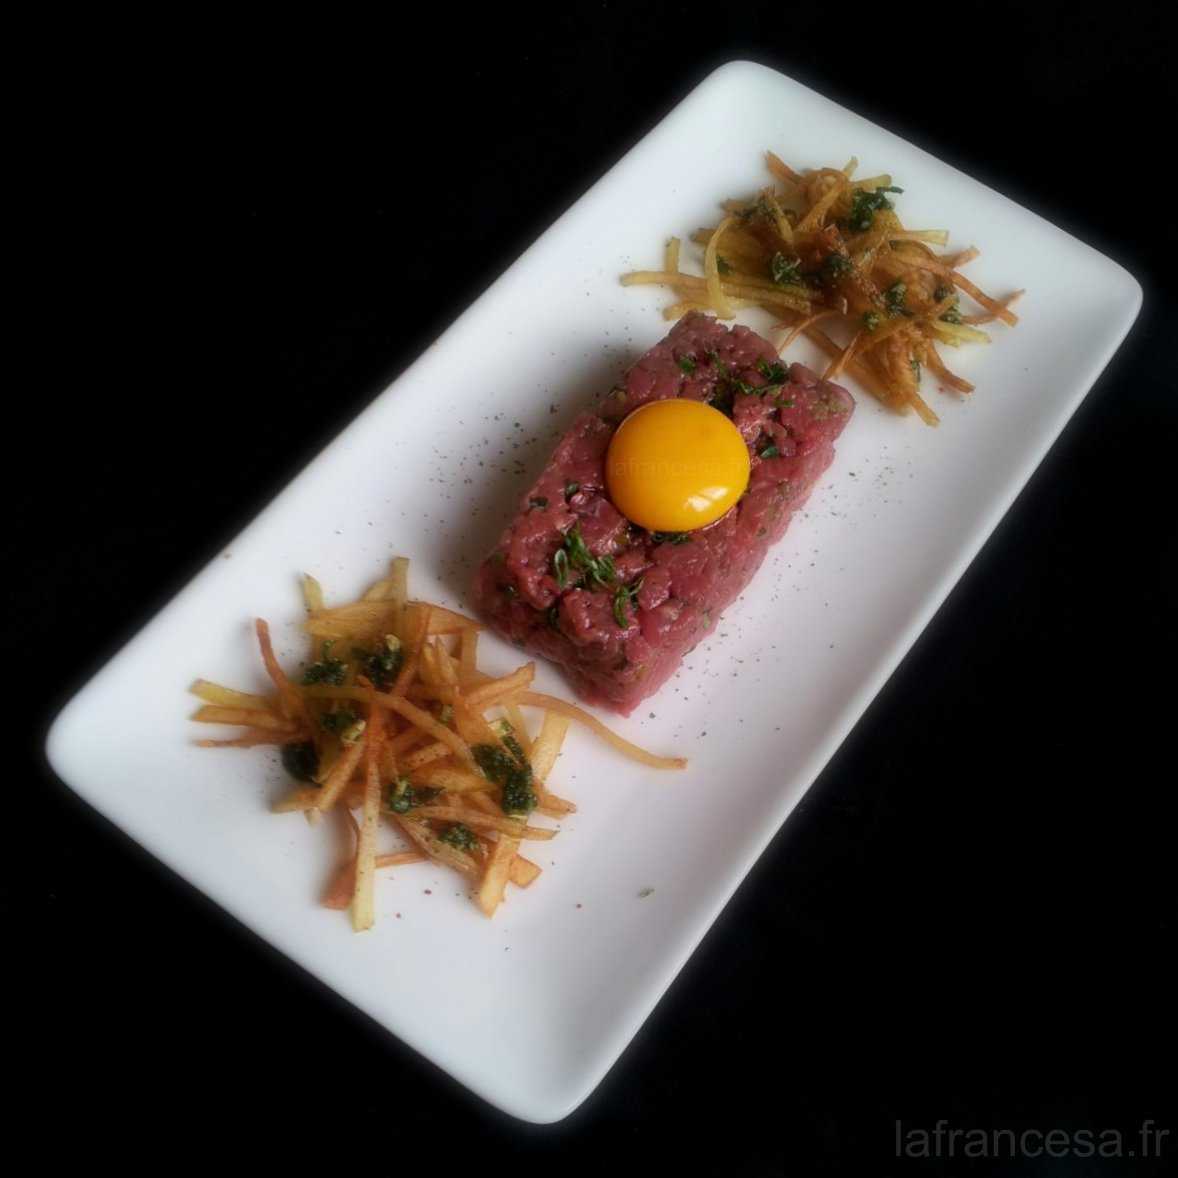Flites de pommes: (107, 575, 672, 989), (576, 53, 1141, 441)
Viande de cheval: (321, 304, 1086, 718)
